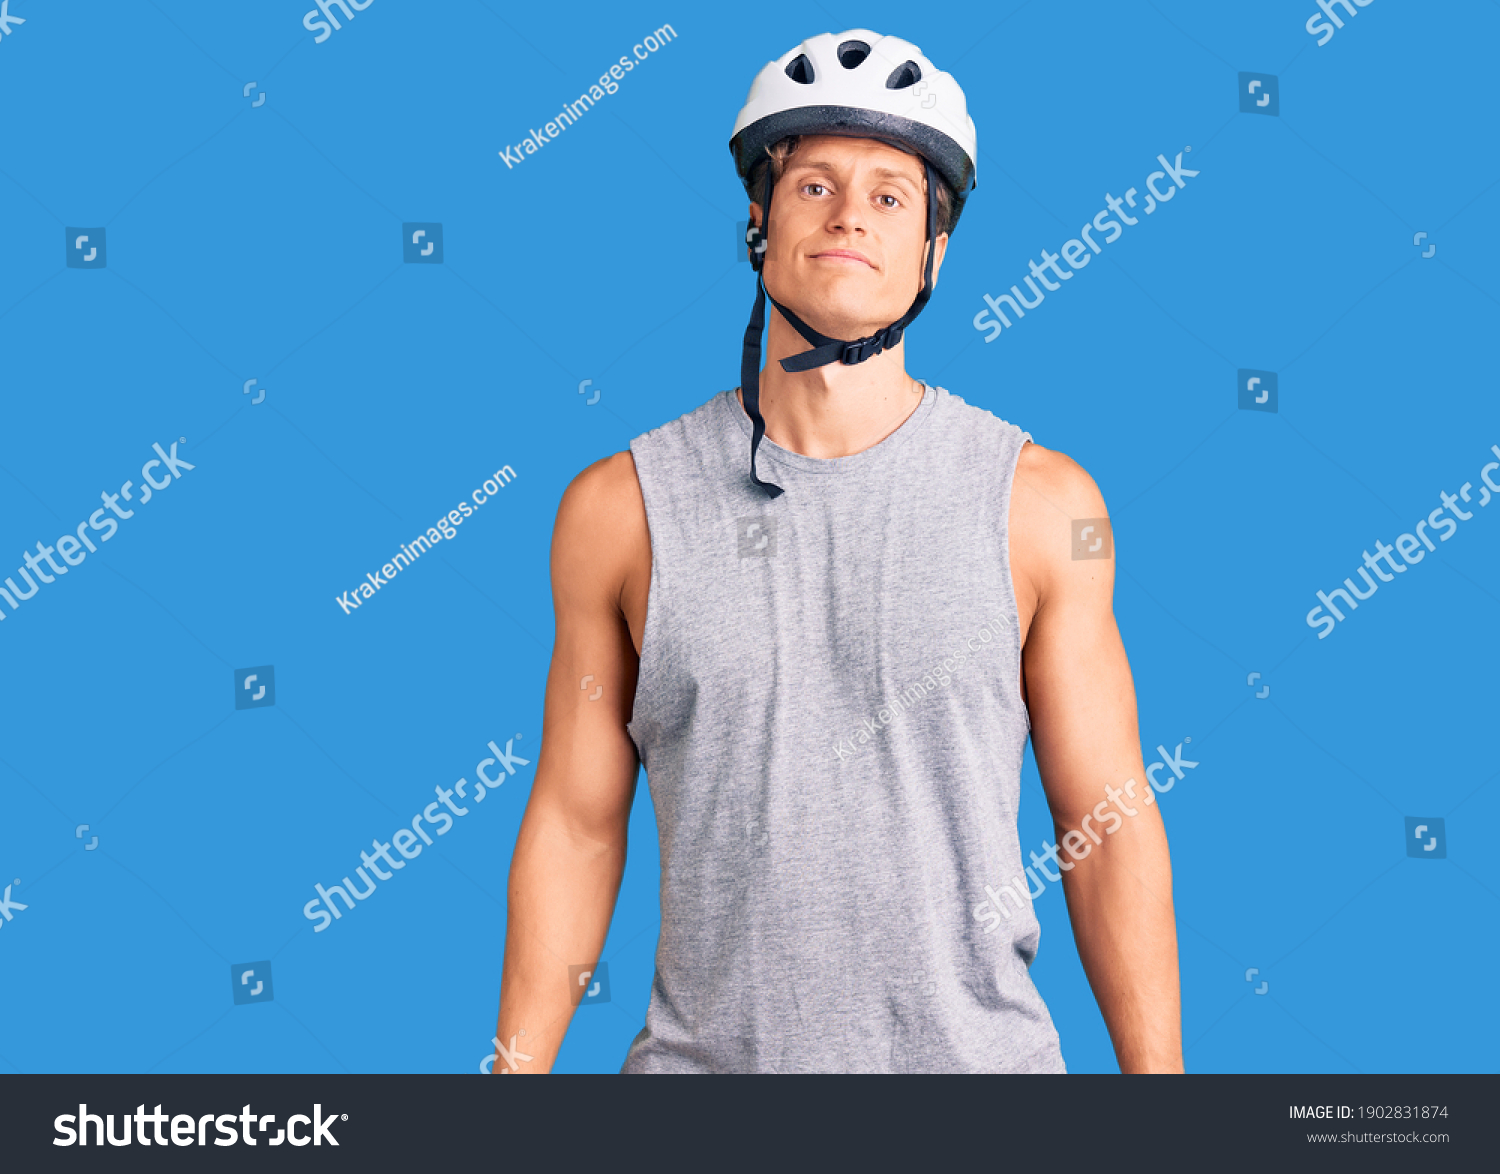helmet: (731, 30, 976, 329)
